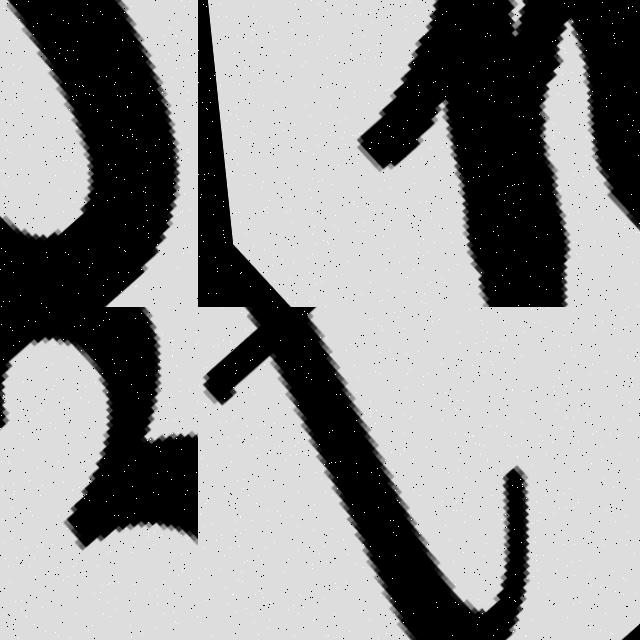0: (0, 0, 198, 307)
3: (0, 307, 198, 640)
N: (243, 0, 640, 307)
T: (198, 307, 632, 640)
